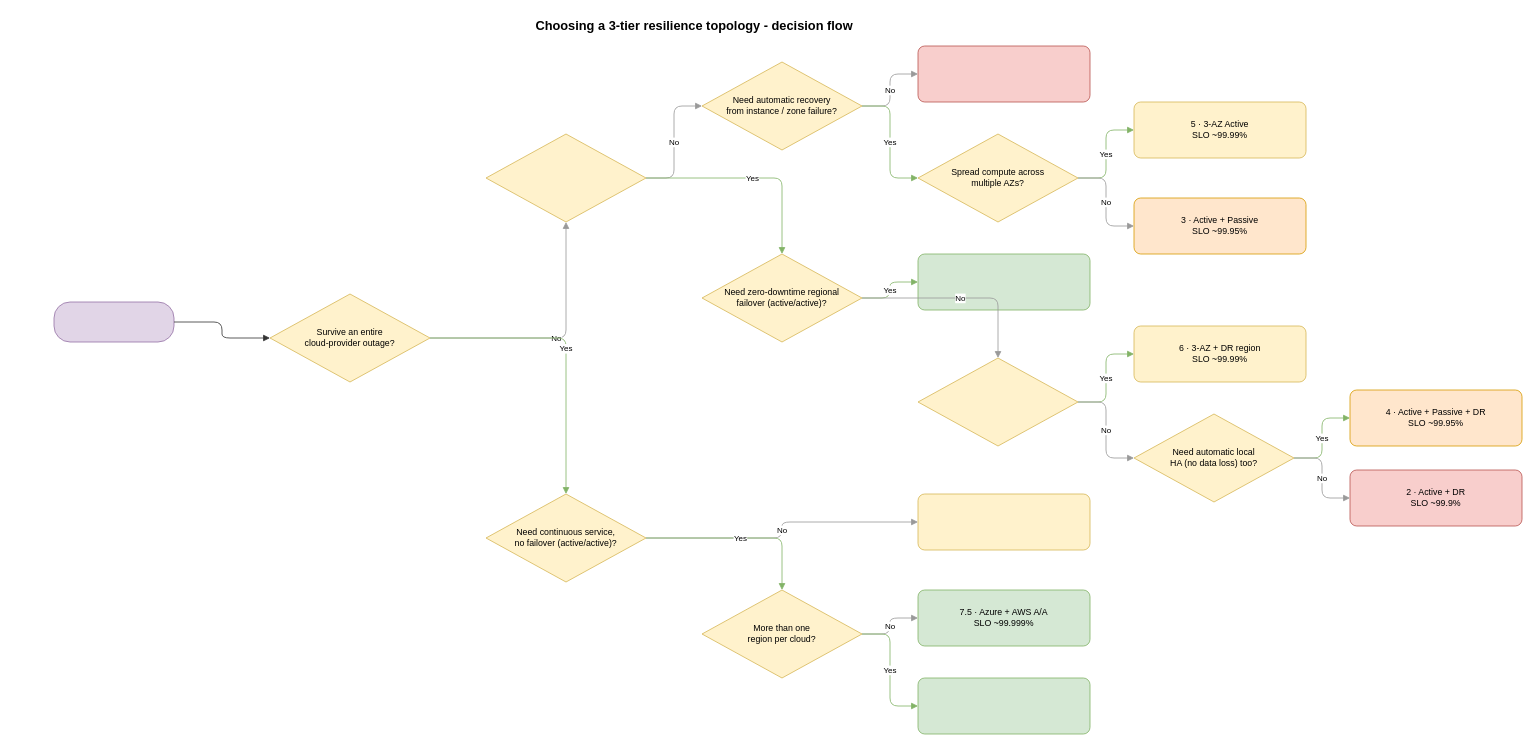
This 1536x748 diagram has some shape labels left out. Each missing label, with the centre of its shape:
1 · Active SLO ~99.9%: point 1003,73
6.5 · 3-AZ + DR in AWS SLO ~99.99%: point 1003,521
7 · Multi-region A/A SLO ~99.99–99.999%: point 1003,281
8 · Multi-cloud A/A SLO ~99.999%+: point 1003,705
Is the primary already 3-AZ active?: point 997,401
Start: point 113,321
Survive a full region outage?: point 565,177
